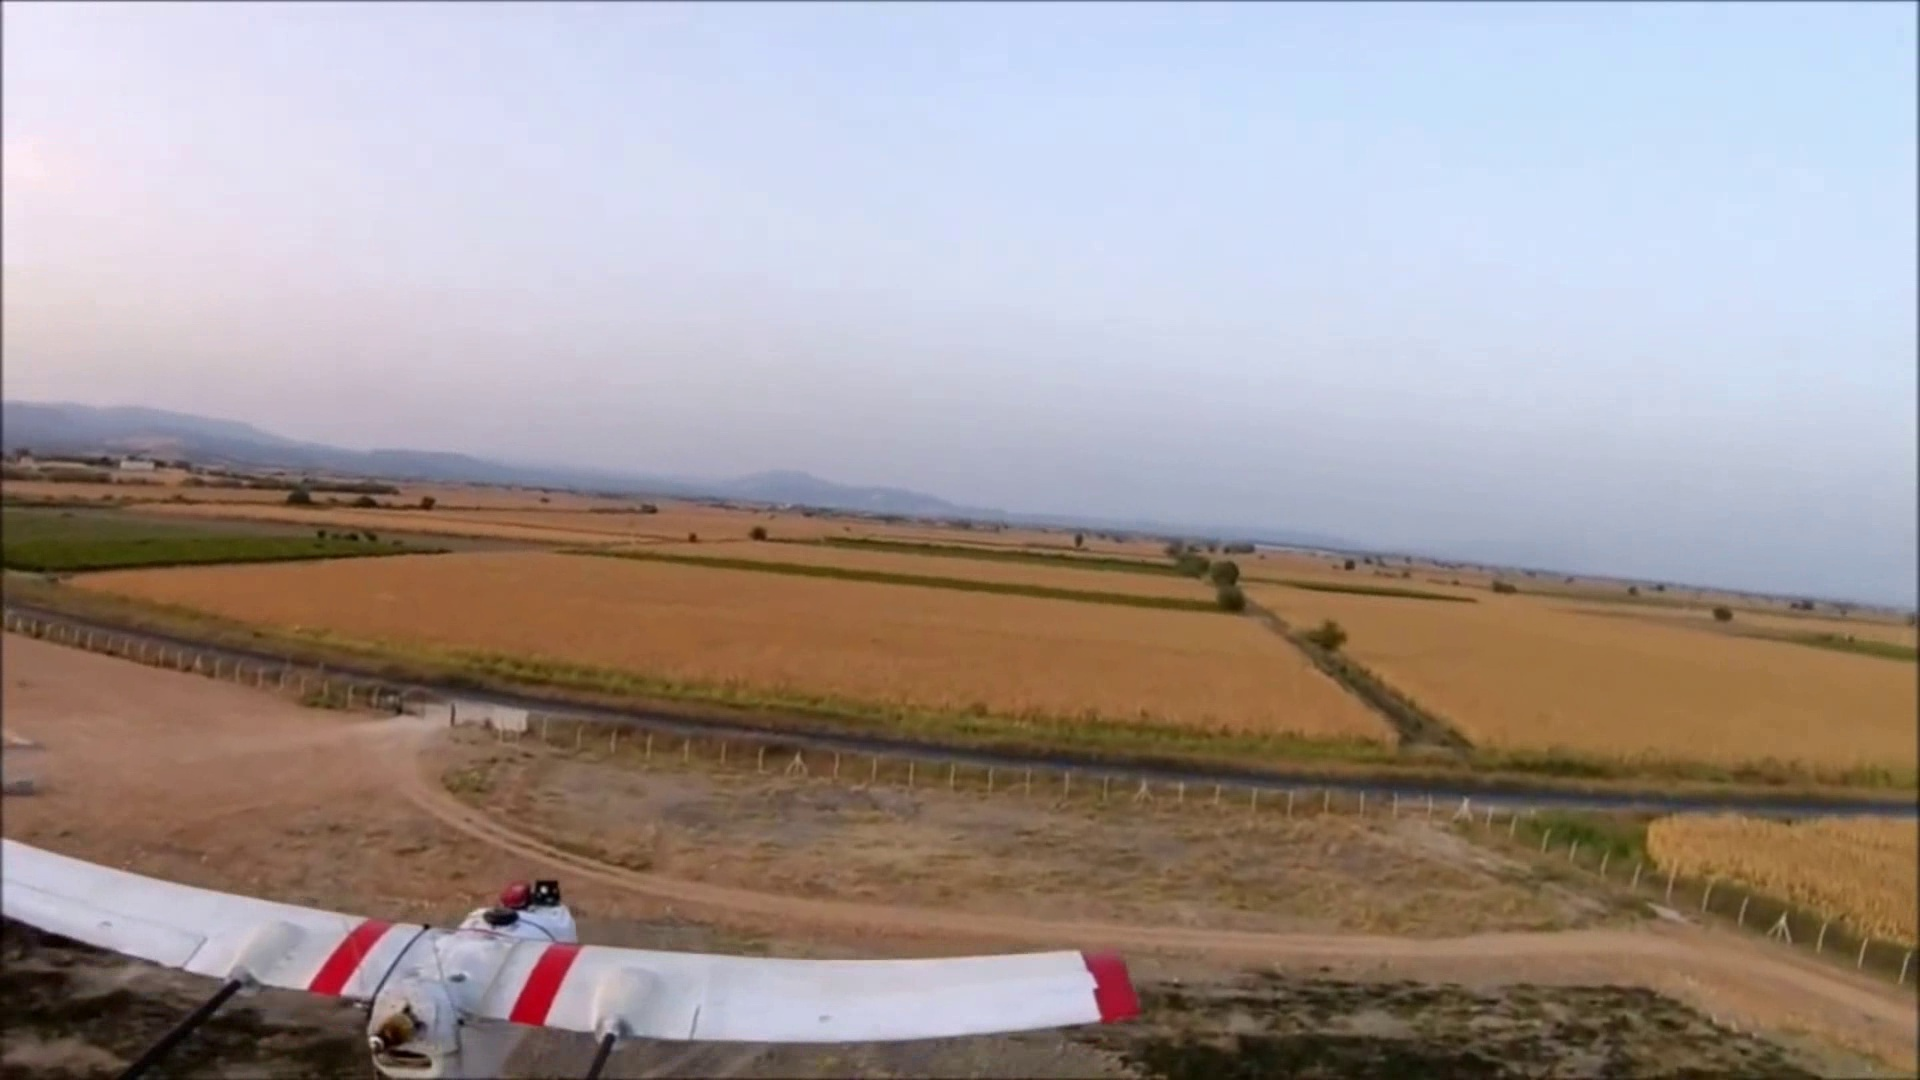airplane: (4, 836, 1146, 1068)
